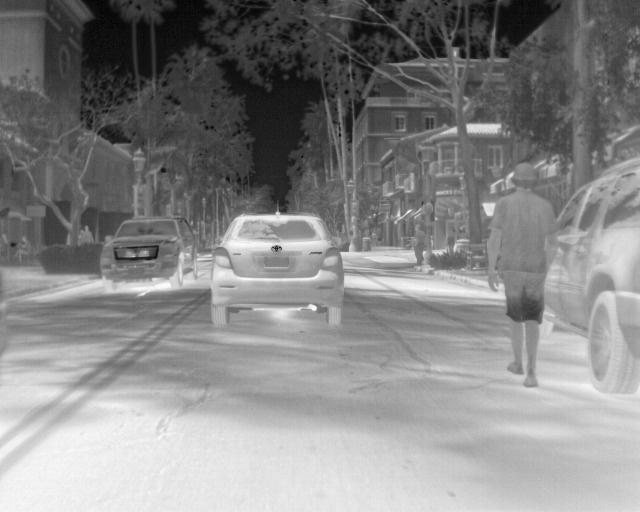bicycle: (542, 157, 639, 391), (208, 211, 345, 327), (97, 213, 200, 289)
empty: (485, 161, 559, 388), (409, 222, 425, 265), (12, 234, 31, 264), (443, 227, 456, 255), (78, 224, 94, 245)
